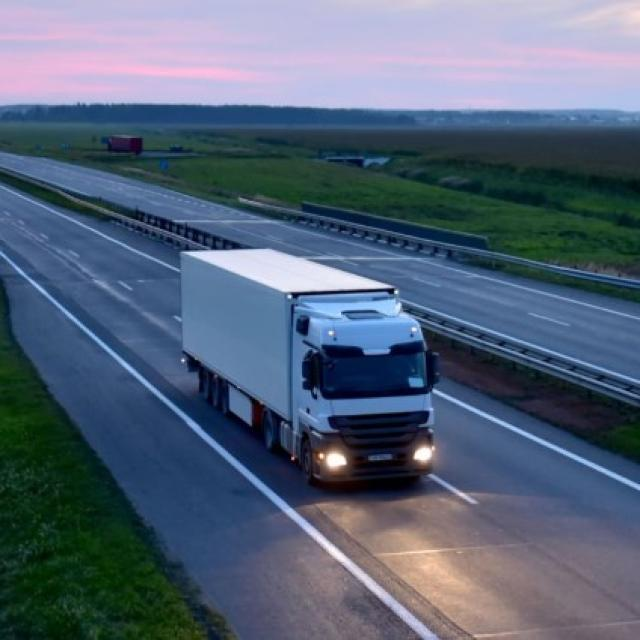truck: (180, 246, 440, 489)
